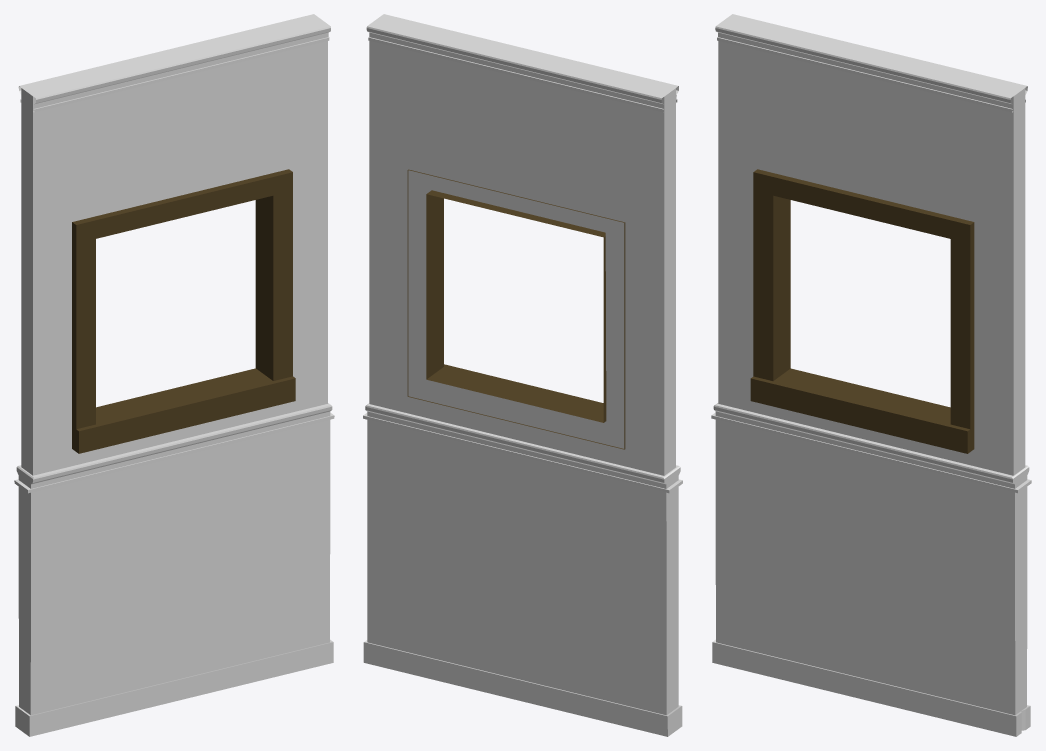
File: doubletile_window.fbx
The picture shows the model from 3 angles, left to right: view 1: azimuth 30°, elevation 25°; view 2: azimuth 150°, elevation 25°; view 3: azimuth 330°, elevation 25°; orthographic projection.
Parts seen in each view (by area): view 1: double_window_cor; view 2: double_window_cor; view 3: double_window_cor.
Part boxes in pixels (<box>): double_window_cor: <box>14,14,334,736</box>; double_window_cor: <box>363,14,682,736</box>; double_window_cor: <box>711,14,1031,736</box>.
Size of the model in its own units: 151 by 300 by 18.
